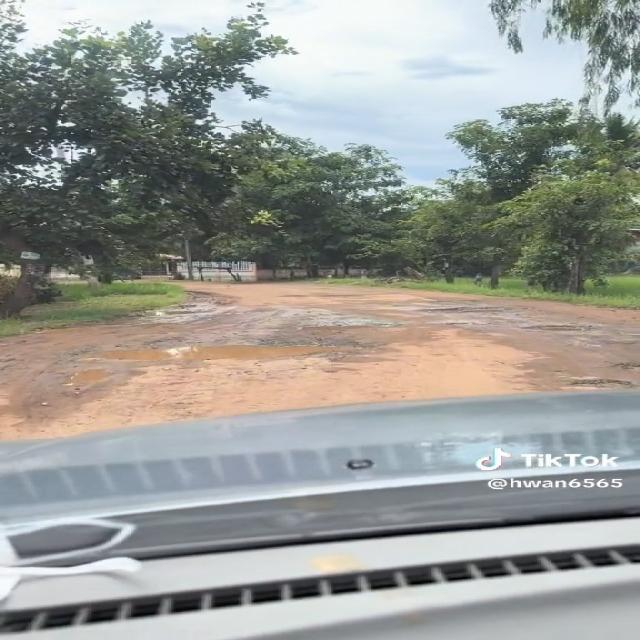Poth-hole: (110, 388, 318, 413)
